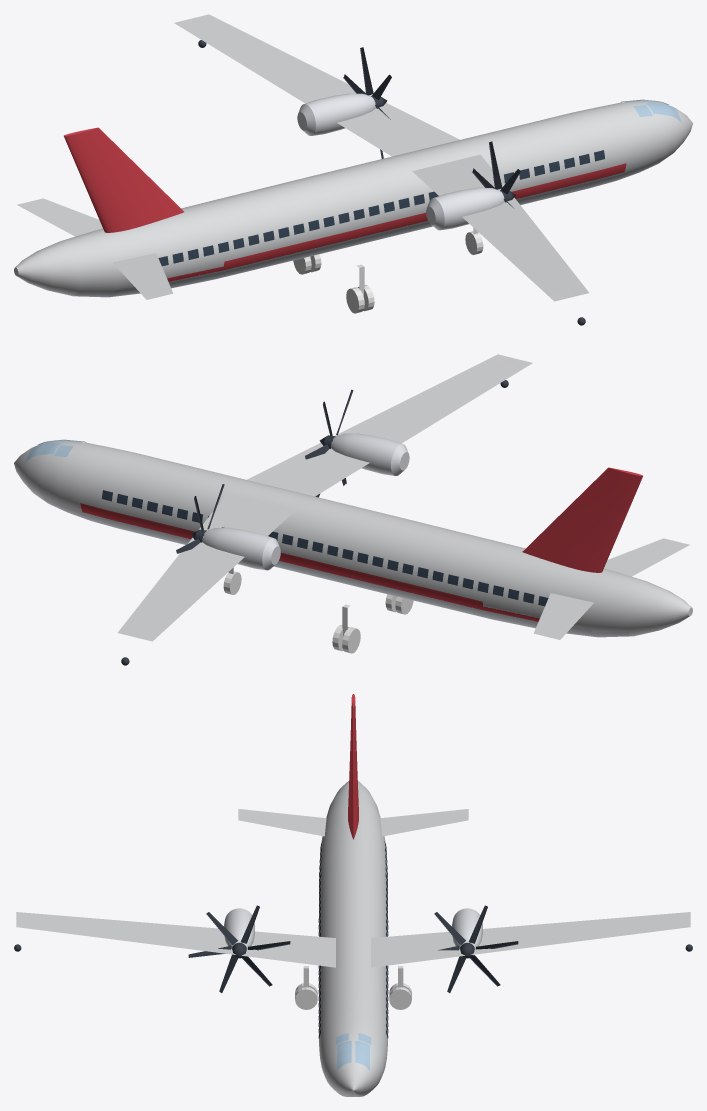
File: atr72.glb
3 renders of one model, top to bottom at view 1: azimuth 30°, elevation 25°; view 2: azimuth 150°, elevation 25°; view 3: azimuth 270°, elevation 25°, orthographic. The views are drawn at different scales.
Parts seen in each view (by area): view 1: Fuselage, Wing.R, Wing.L, VFin, CabinWindows, Nacelle.L, Nacelle.R, HStab.L, Gear, HStab, Prop.L, Prop.R; view 2: Fuselage, Wing.L, Wing.R, VFin, CabinWindows, Nacelle.R, Nacelle.L, HStab, Gear, HStab.L, Prop.R, Prop.L; view 3: Fuselage, Wing.R, Wing.L, Prop.R, HStab, HStab.L, Prop.L, Gear, VFin, CabinWindows, Nacelle.L, Nacelle.R.
Part boxes in pixels (x1,y1,x2,y2): Fuselage: [14, 100, 692, 297]; Wing.R: [174, 14, 459, 156]; Wing.L: [412, 154, 589, 301]; VFin: [64, 127, 183, 232]; CabinWindows: [158, 150, 604, 266]; Nacelle.L: [297, 93, 375, 135]; Nacelle.R: [426, 187, 504, 230]; HStab.L: [113, 253, 173, 299]; Gear: [293, 228, 483, 313]; HStab: [17, 198, 102, 236]; Prop.L: [343, 47, 391, 158]; Prop.R: [472, 141, 520, 207]; Fuselage: [14, 440, 692, 637]; Wing.L: [247, 354, 532, 496]; Wing.R: [117, 494, 294, 641]; VFin: [522, 467, 642, 572]; CabinWindows: [102, 490, 548, 606]; Nacelle.R: [331, 433, 409, 475]; Nacelle.L: [202, 527, 280, 570]; HStab: [533, 593, 593, 639]; Gear: [223, 567, 413, 653]; HStab.L: [604, 538, 689, 576]; Prop.R: [305, 389, 353, 497]; Prop.L: [176, 484, 224, 553]; Fuselage: [319, 781, 387, 1096]; Wing.R: [371, 912, 690, 967]; Wing.L: [16, 912, 335, 967]; Prop.R: [188, 905, 290, 992]; HStab: [380, 809, 468, 836]; HStab.L: [238, 809, 326, 836]; Prop.L: [434, 905, 518, 992]; Gear: [295, 966, 411, 1009]; VFin: [348, 694, 358, 839]; CabinWindows: [318, 841, 388, 1038]; Nacelle.L: [452, 908, 482, 949]; Nacelle.R: [224, 908, 254, 949].
Bounding box in the file's own units: 27.9 × 8.73 × 27.4.
